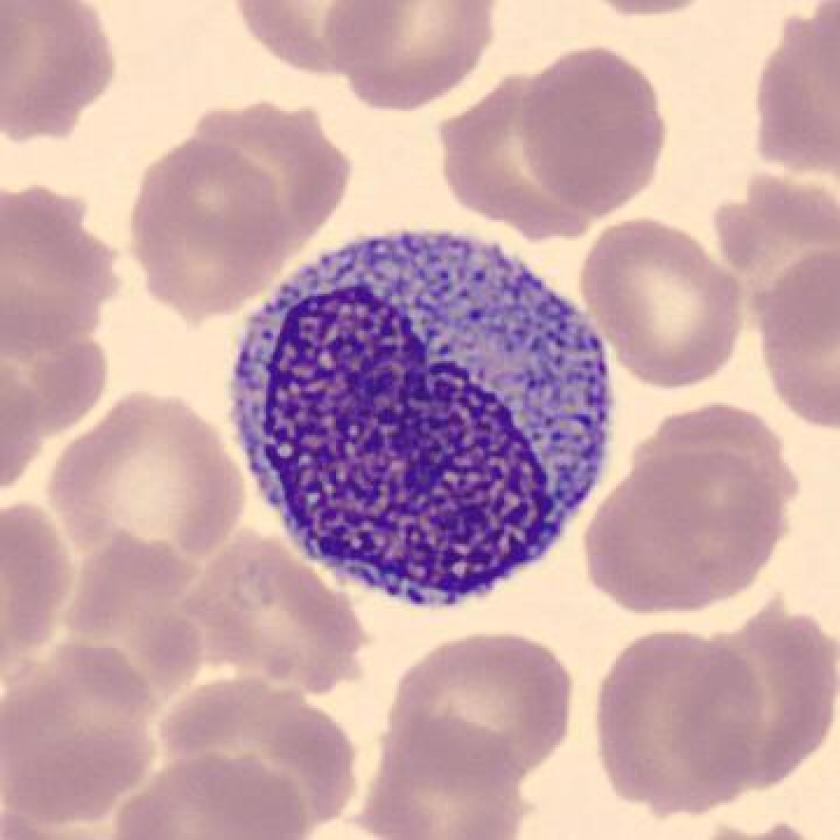monocyte: (213, 221, 629, 623)
